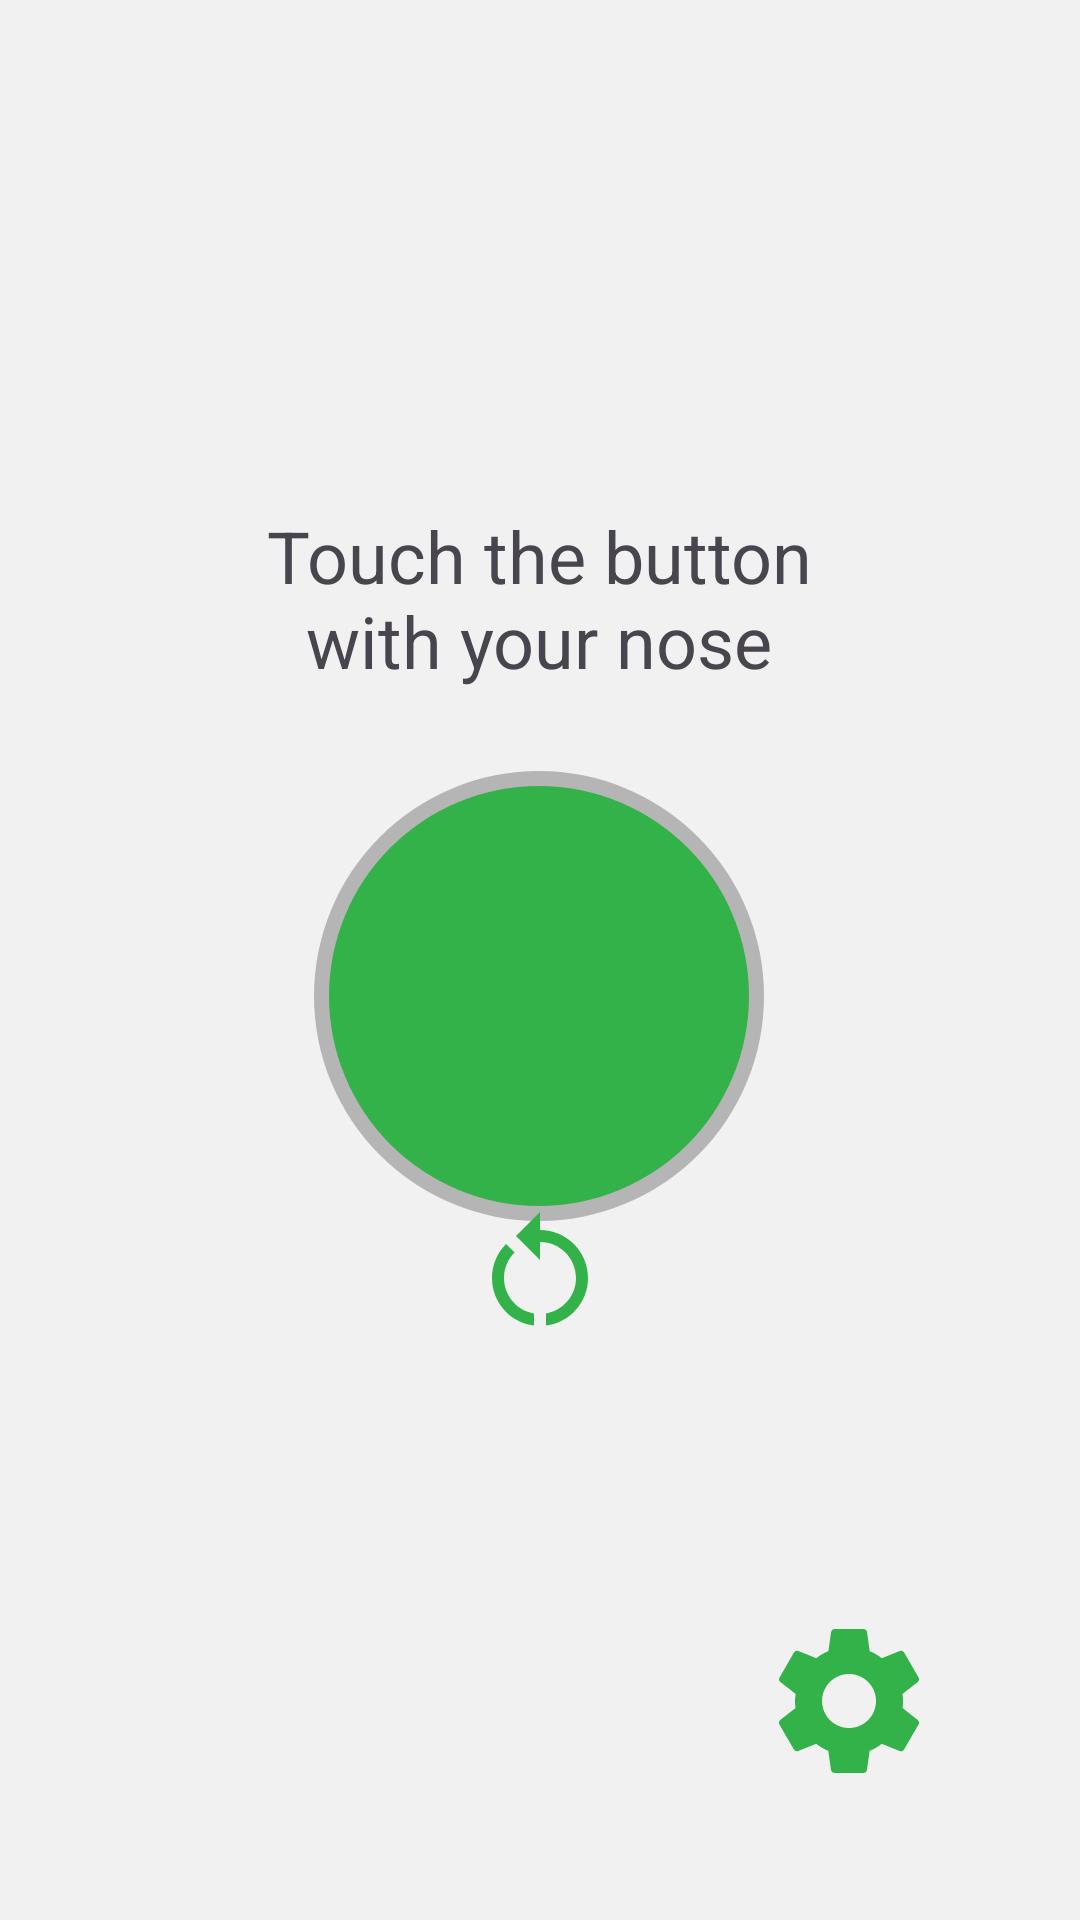

Icon click points for this 1080x1920 phone screenshot, format [x,y]:
Gear icon for settings: [849,1701]
Reset button: [540,1263]
